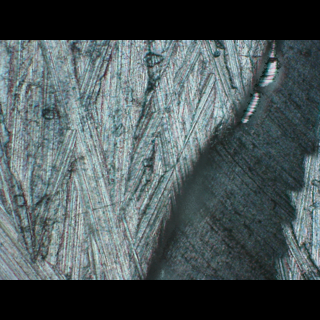d: (132, 40, 320, 279)
